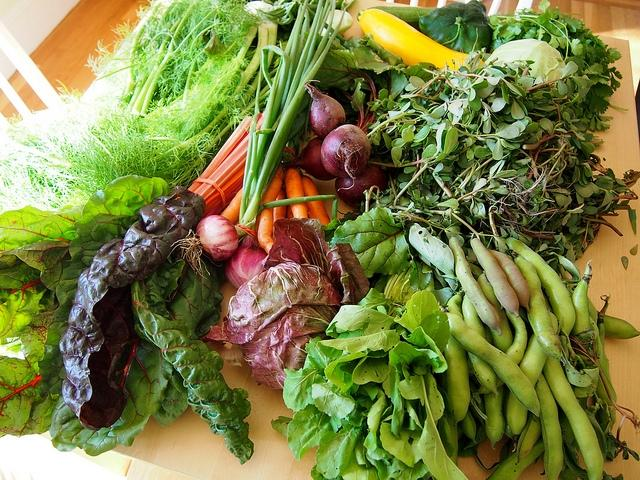carrot: (258, 164, 284, 255), (301, 176, 331, 226), (285, 168, 308, 218), (220, 186, 243, 226), (272, 187, 288, 241)
green bean: (444, 312, 540, 418), (544, 356, 604, 478), (506, 237, 576, 336), (506, 310, 558, 435), (513, 252, 566, 366), (448, 236, 502, 336), (474, 310, 528, 394), (470, 238, 519, 318), (462, 294, 498, 396), (534, 373, 565, 480), (478, 270, 514, 354), (486, 432, 544, 480), (488, 250, 530, 313), (444, 335, 472, 428), (570, 259, 594, 336), (484, 383, 506, 450), (597, 292, 612, 387), (516, 412, 542, 464), (596, 310, 640, 340), (469, 376, 486, 428), (458, 409, 478, 444), (588, 316, 598, 336)
onion: (224, 234, 268, 288), (196, 214, 238, 262)
